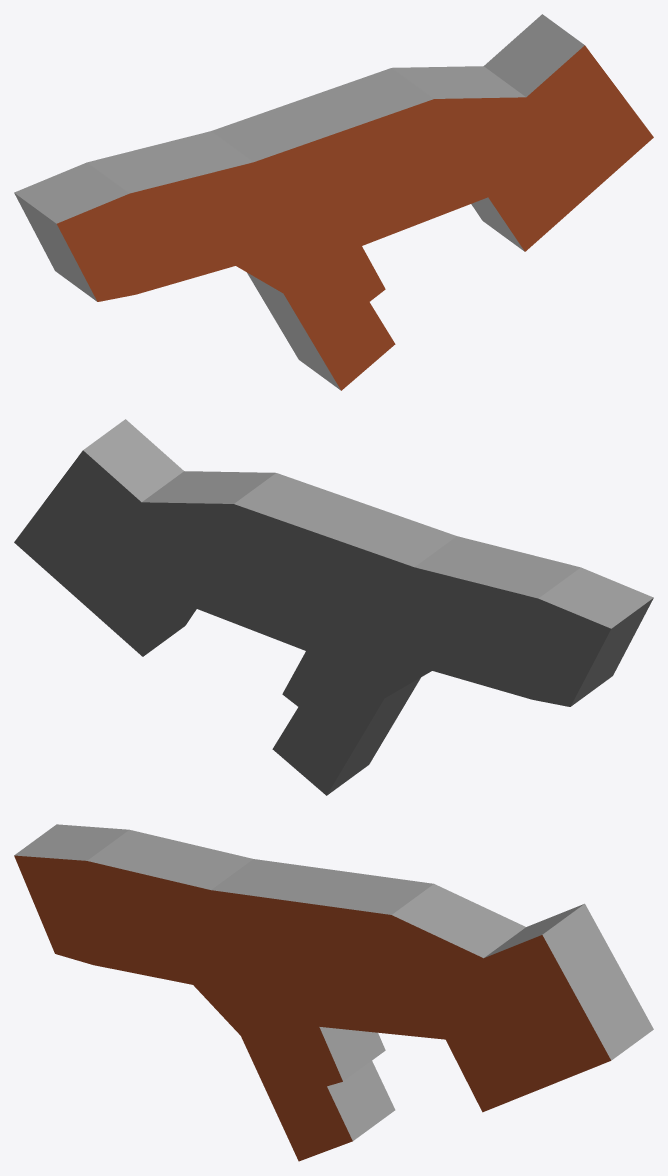
The model's file is construction_3738_assumed_A_Casa_h6m.obj.
The picture shows the model from 3 angles, top to bottom: view 1: azimuth 30°, elevation 25°; view 2: azimuth 150°, elevation 25°; view 3: azimuth 330°, elevation 25°; orthographic projection.
Visible parts, largest first — view 1: construction_3738_assumed_A_Casa; view 2: construction_3738_assumed_A_Casa; view 3: construction_3738_assumed_A_Casa.
Part boxes in pixels (bbox=[...]): construction_3738_assumed_A_Casa: bbox=[14, 14, 653, 390]; construction_3738_assumed_A_Casa: bbox=[14, 419, 653, 795]; construction_3738_assumed_A_Casa: bbox=[14, 824, 653, 1161].
Bounding box in the file's own units: 48.57 × 22.24 × 6.
